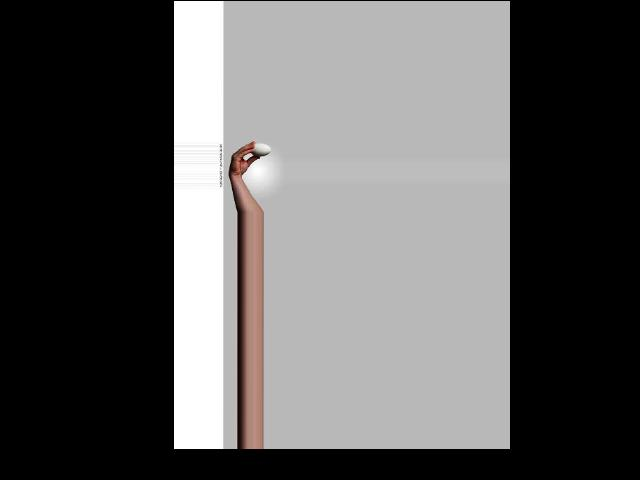egg: (250, 143, 271, 157)
